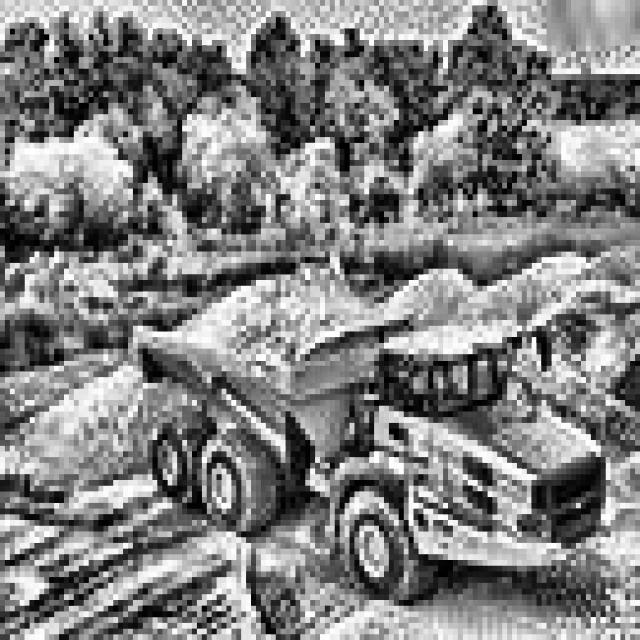dump_truck: (113, 228, 630, 623)
